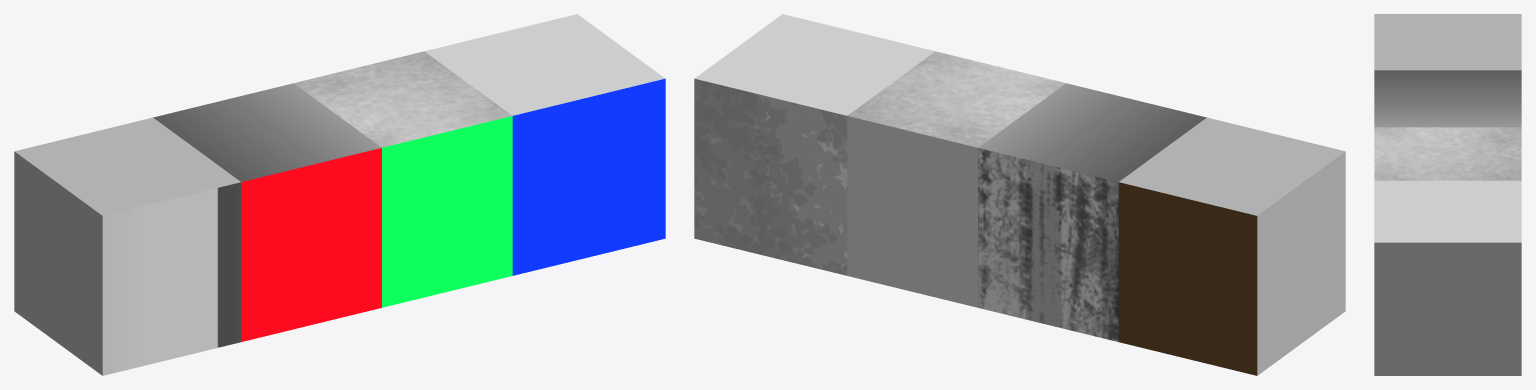
The model's file is MaterialImporter.fbx.
3 renders of one model, left to right at view 1: azimuth 30°, elevation 25°; view 2: azimuth 150°, elevation 25°; view 3: azimuth 270°, elevation 25°, orthographic. The views are drawn at different scales.
Parts seen in each view (by area): view 1: MaterialImporter; view 2: MaterialImporter; view 3: MaterialImporter.
Boxes of the visible parts, x1=… form: MaterialImporter: x1=14, y1=14, x2=665, y2=375; MaterialImporter: x1=694, y1=14, x2=1345, y2=375; MaterialImporter: x1=1374, y1=14, x2=1521, y2=375.
Size of the model in its own units: 7.36 by 2 by 2.
13 materials, 5 textured.
